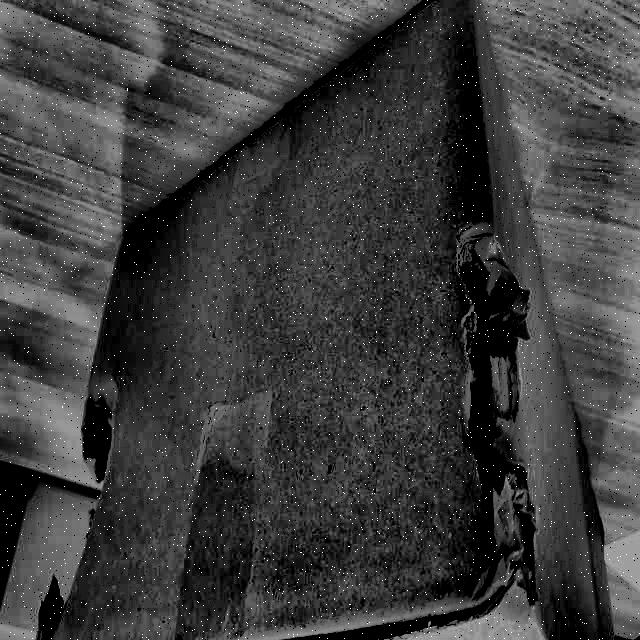box: (23, 1, 626, 640)
hole: (448, 253, 538, 581), (50, 399, 117, 637)
